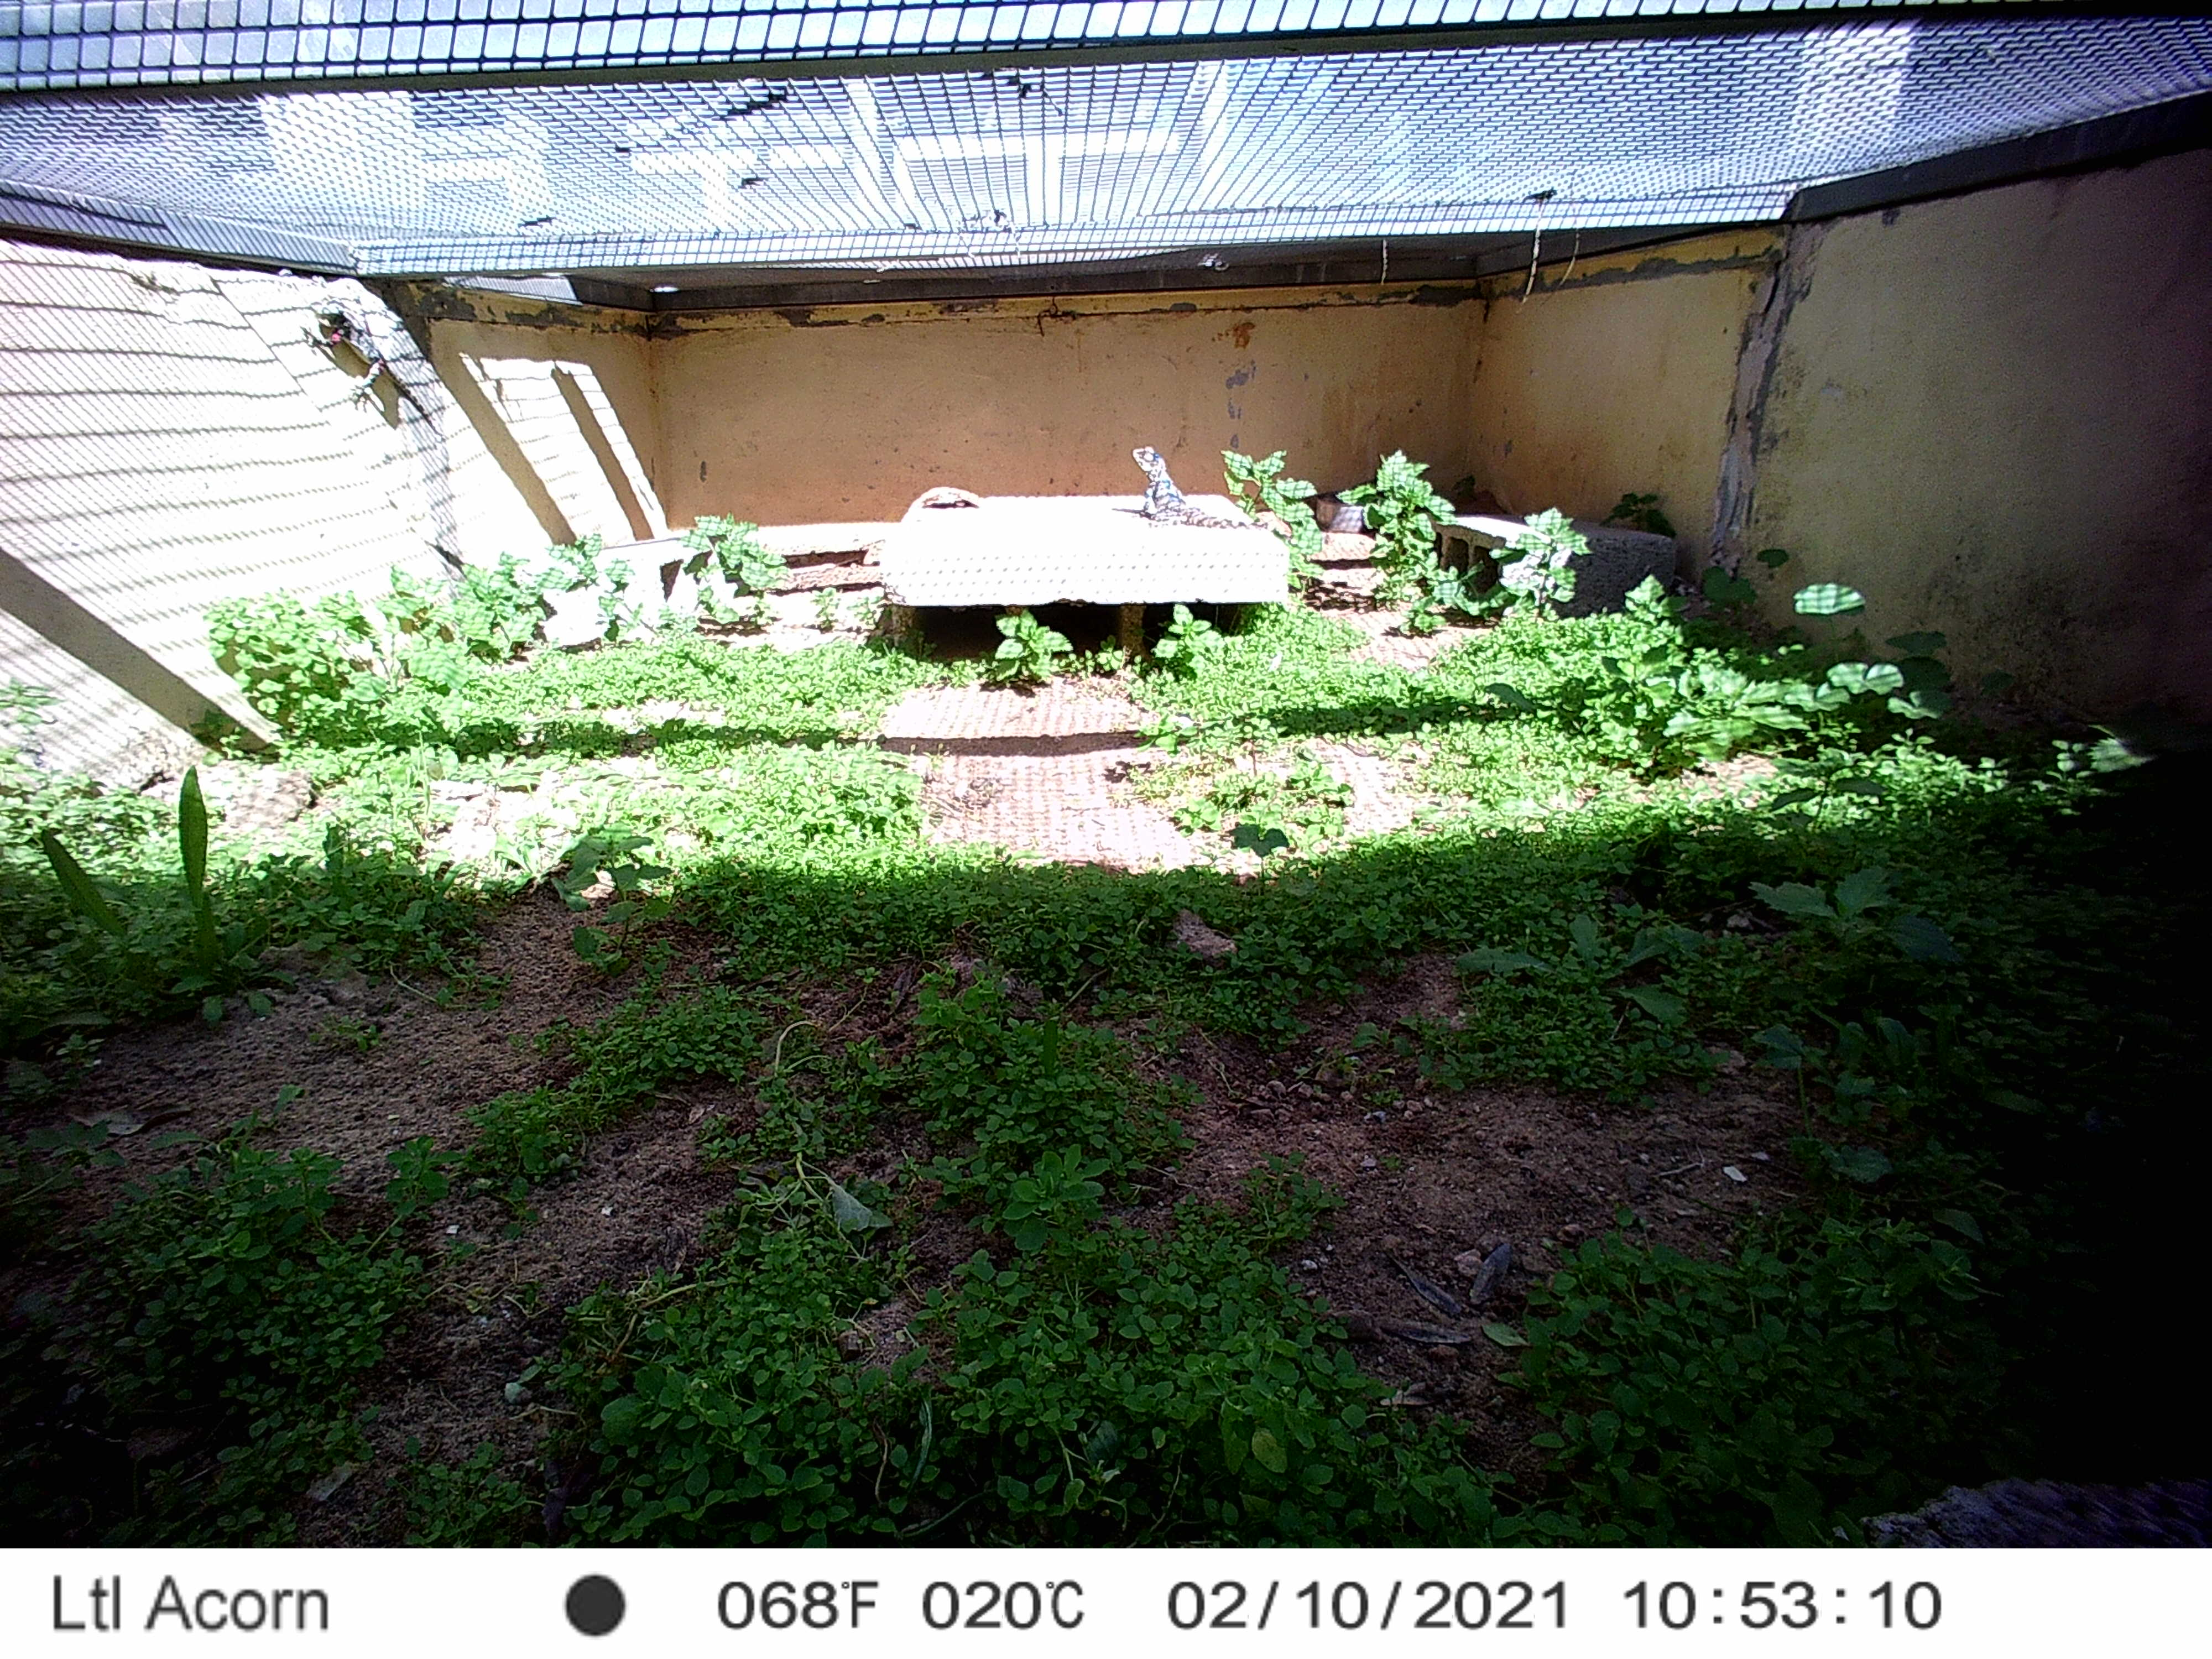lizard: (298, 281, 451, 439), (1129, 443, 1280, 535)
